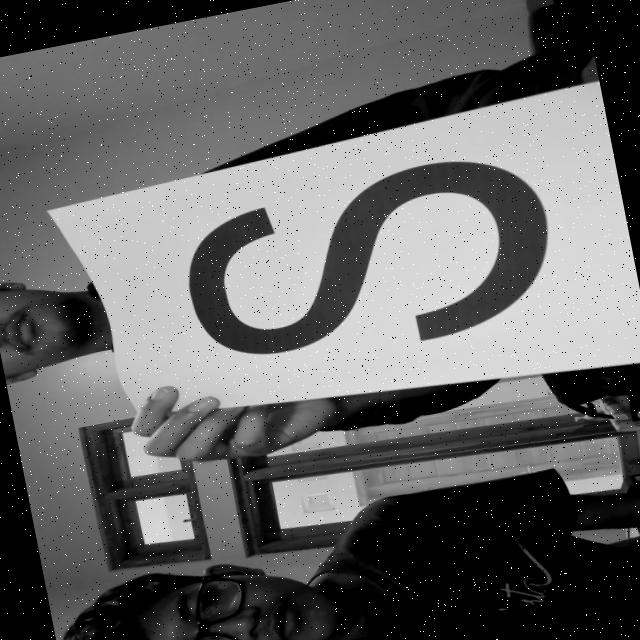s: (148, 128, 590, 390)
